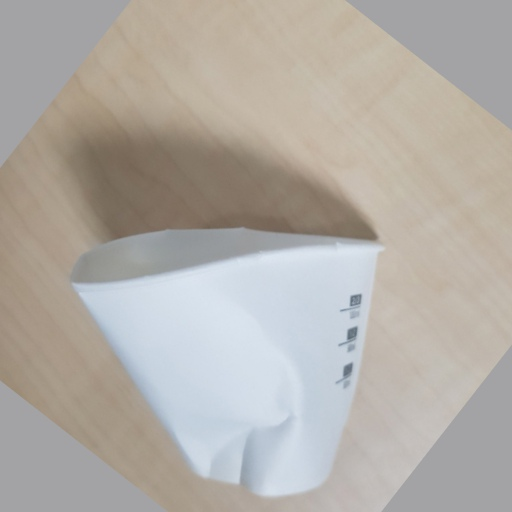Paper_1: (65, 222, 385, 498)
